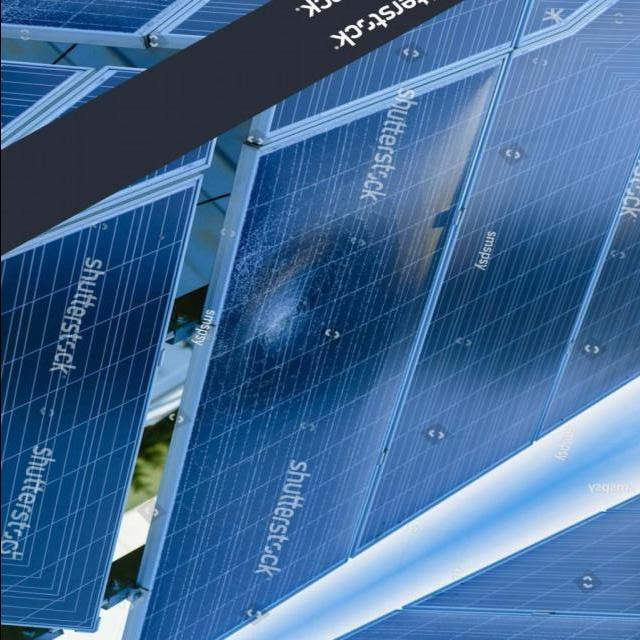cracked: (140, 71, 498, 640)
